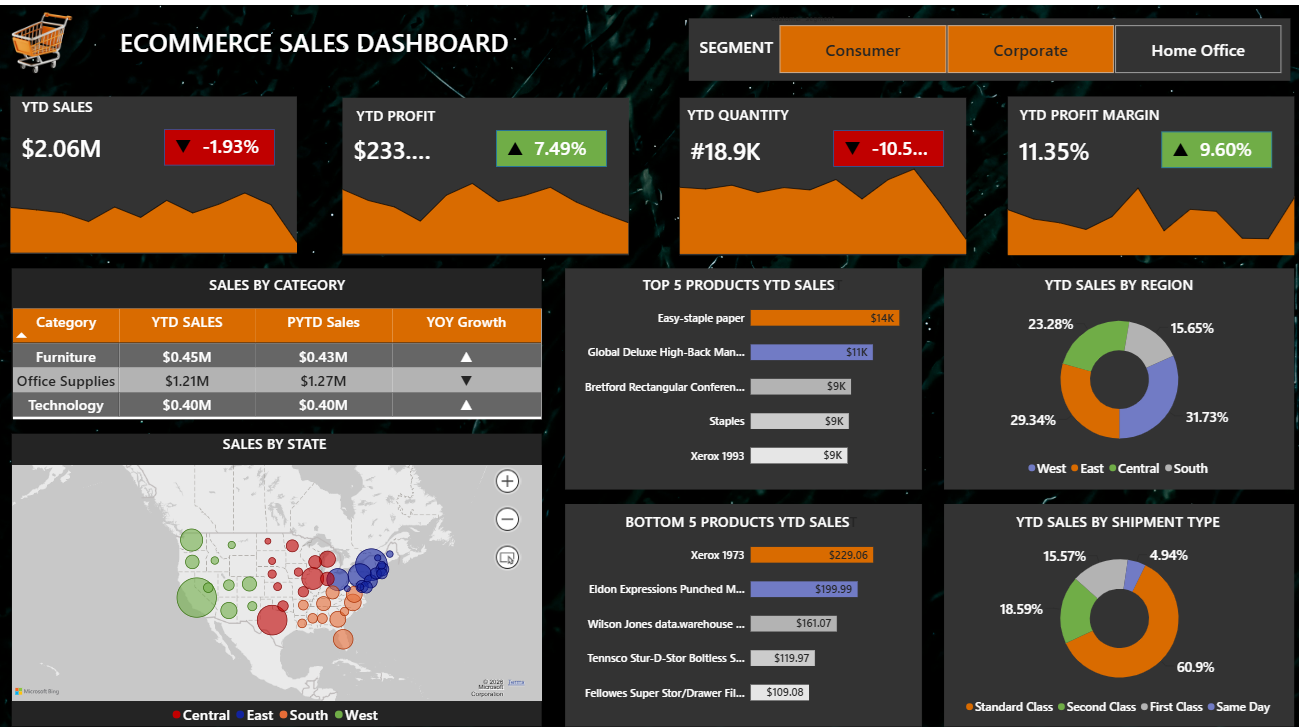

Layout of this report page (visuals, bound fields, positions):
{"tool":"powerbi","page":{"name":"ECOMMERCE SALES DASHBOARD","canvas":[1920,1080],"ordinal":0},"visuals":[{"type":"image","box":[0,0,116.9,113.1],"z":0},{"type":"textbox","box":[128.4,30.7,668.9,55.6],"z":1000},{"type":"shape","box":[15.3,136.1,421.6,231.9],"z":2000},{"type":"cardVisual","fields":{"Data":["ecommerce_data (2).YTD SALES"]},"box":[15.3,170.6,162.9,82.4],"z":3000},{"type":"textbox","box":[15.3,136.1,138.5,44.7],"z":4000},{"type":"areaChart","fields":{"Y":["Sum(ecommerce_data (2).sales_per_order)"],"Category":["Calender.Month"]},"box":[0,230,452.3,136.1],"z":5000},{"type":"shape","box":[241.5,184,162.9,53.7],"z":6000},{"type":"cardVisual","fields":{"Data":["ecommerce_data (2).YOY Growth"]},"box":[281.7,185.9,122.7,44.1],"z":7000},{"type":"cardVisual","fields":{"Data":["ecommerce_data (2).YOY icon"]},"box":[241.5,185.9,57.5,44.1],"z":8000},{"type":"shape","box":[503.7,138.7,421.6,231.9],"z":9000},{"type":"cardVisual","fields":{"Data":["ecommerce_data (2).YTD PROFIT"]},"box":[503.7,173.2,162.9,82.4],"z":10000},{"type":"textbox","box":[513.7,148.7,138.5,44.7],"z":11000},{"type":"areaChart","fields":{"Category":["Calender.Month"],"Y":["Sum(ecommerce_data (2).profit_per_order)"]},"box":[488.7,237.7,451.2,129.9],"z":12000},{"type":"shape","box":[729.8,186.6,162.9,53.7],"z":13000},{"type":"cardVisual","fields":{"Data":["ecommerce_data (2).YOY PROFIT GROWTH"]},"box":[770.1,188.5,122.7,44.1],"z":14000},{"type":"cardVisual","fields":{"Data":["ecommerce_data (2).PROFIT ICON"]},"box":[729.8,188.5,57.5,44.1],"z":15000},{"type":"shape","box":[999.7,138.7,421.6,231.9],"z":16000},{"type":"cardVisual","fields":{"Data":["ecommerce_data (2).YTD Quantity Concatinated"]},"box":[1000,174,176,82],"z":17000},{"type":"textbox","box":[999.3,147.5,176.1,41.8],"z":18000},{"type":"areaChart","fields":{"Category":["Calender.Month"],"Y":["Sum(ecommerce_data (2).order_quantity)"]},"box":[984.4,232.6,452.3,136.1],"z":19000},{"type":"shape","box":[1225.8,186.6,162.9,53.7],"z":20000},{"type":"cardVisual","fields":{"Data":["ecommerce_data (2).YOY Quantity Growth"]},"box":[1266.1,188.5,122.7,44.1],"z":21000},{"type":"cardVisual","fields":{"Data":["ecommerce_data (2).Quantity icon"]},"box":[1225.8,188.5,57.5,44.1],"z":22000},{"type":"shape","box":[1483.4,136.1,421.6,231.9],"z":23000},{"type":"cardVisual","fields":{"Data":["ecommerce_data (2).YTD Profit Margin"]},"box":[1483.5,174.7,162.9,82.4],"z":24000},{"type":"textbox","box":[1498.7,147.6,210.8,46],"z":25000},{"type":"areaChart","fields":{"Category":["Calender.Month"],"Y":["ecommerce_data (2).Profit Margin"]},"box":[1468.2,234.1,452.3,136.1],"z":26000},{"type":"shape","box":[1709.6,188.1,162.9,53.7],"z":27000},{"type":"cardVisual","fields":{"Data":["ecommerce_data (2).YOY Profit Margin"]},"box":[1749.9,190,122.7,44.1],"z":28000},{"type":"cardVisual","fields":{"Data":["ecommerce_data (2).Profit margin icon"]},"box":[1709.6,190,57.5,44.1],"z":29000},{"type":"shape","box":[17.2,389,780,222.3],"z":30000},{"type":"pivotTable","fields":{"Rows":["ecommerce_data (2).category_name"],"Values":["ecommerce_data (2).YTD SALES","ecommerce_data (2).PYTD Sales","ecommerce_data (2).YOY icon"]},"box":[19.2,448.5,778.1,162.9],"z":31000},{"type":"textbox","box":[278,398,260.6,40.2],"z":32000},{"type":"shape","box":[17.2,632.4,780,431.2],"z":33000},{"type":"map","fields":{"Size":["ecommerce_data (2).YTD SALES"],"Y":["us_state_long_lat_codes.latitude"],"X":["us_state_long_lat_codes.longitude"],"Series":["ecommerce_data (2).customer_region"]},"box":[17.2,678.4,780,385.2],"z":34000},{"type":"textbox","box":[302.9,632.9,203.1,46],"z":35000},{"type":"shape","box":[831.8,389,525.1,325.8],"z":36000},{"type":"shape","box":[831.8,735.9,525.1,327.7],"z":37000},{"type":"shape","box":[1389.5,735.9,515.5,327.7],"z":38000},{"type":"shape","box":[1389.5,389,515.5,325.8],"z":39000},{"type":"barChart","fields":{"Category":["ecommerce_data (2).product_name"],"Y":["ecommerce_data (2).YTD SALES"]},"box":[831.8,408.2,525.1,306.6],"z":40000},{"type":"barChart","fields":{"Category":["ecommerce_data (2).product_name"],"Y":["ecommerce_data (2).YTD SALES"]},"box":[831.8,757,525.1,306.6],"z":41000},{"type":"textbox","box":[942,398,300.9,40.2],"z":42000},{"type":"textbox","box":[910.3,747.4,362.2,40.2],"z":43000},{"type":"donutChart","fields":{"Category":["ecommerce_data (2).customer_region"],"Y":["ecommerce_data (2).YTD SALES"]},"box":[1390,428,516,288],"z":44000},{"type":"textbox","box":[1484,398,328,50],"z":45000},{"type":"donutChart","fields":{"Y":["ecommerce_data (2).YTD SALES"],"Category":["ecommerce_data (2).shipping_type"]},"box":[1390,778,516,288],"z":46000},{"type":"textbox","box":[1482,748,328,50],"z":47000},{"type":"shape","box":[1013.8,21.1,885.4,92],"z":48000},{"type":"slicer","fields":{"Values":["ecommerce_data (2).customer_segment"]},"box":[1126.9,15.3,778.1,88.2],"z":49000},{"type":"textbox","box":[998.8,46.2,170.6,47.9],"z":50000}]}

Visuals, with their boxes in screenshot pixels (x1, y1, x2, y2), scaled from the page's 1920x1080 canvas onto the 1299x727 screenshot:
image: pyautogui.locateOnScreen(0, 0, 79, 76)
textbox: pyautogui.locateOnScreen(87, 21, 539, 58)
shape: pyautogui.locateOnScreen(10, 92, 296, 248)
cardVisual - ecommerce_data (2).YTD SALES: pyautogui.locateOnScreen(10, 115, 121, 170)
textbox: pyautogui.locateOnScreen(10, 92, 104, 122)
areaChart - Sum(ecommerce_data (2).sales_per_order) x Calender.Month: pyautogui.locateOnScreen(0, 155, 306, 246)
shape: pyautogui.locateOnScreen(163, 124, 274, 160)
cardVisual - ecommerce_data (2).YOY Growth: pyautogui.locateOnScreen(191, 125, 274, 155)
cardVisual - ecommerce_data (2).YOY icon: pyautogui.locateOnScreen(163, 125, 202, 155)
shape: pyautogui.locateOnScreen(341, 93, 626, 249)
cardVisual - ecommerce_data (2).YTD PROFIT: pyautogui.locateOnScreen(341, 117, 451, 172)
textbox: pyautogui.locateOnScreen(348, 100, 441, 130)
areaChart - Calender.Month x Sum(ecommerce_data (2).profit_per_order): pyautogui.locateOnScreen(331, 160, 636, 247)
shape: pyautogui.locateOnScreen(494, 126, 604, 162)
cardVisual - ecommerce_data (2).YOY PROFIT GROWTH: pyautogui.locateOnScreen(521, 127, 604, 157)
cardVisual - ecommerce_data (2).PROFIT ICON: pyautogui.locateOnScreen(494, 127, 533, 157)
shape: pyautogui.locateOnScreen(676, 93, 962, 249)
cardVisual - ecommerce_data (2).YTD Quantity Concatinated: pyautogui.locateOnScreen(677, 117, 796, 172)
textbox: pyautogui.locateOnScreen(676, 99, 795, 127)
areaChart - Calender.Month x Sum(ecommerce_data (2).order_quantity): pyautogui.locateOnScreen(666, 157, 972, 248)
shape: pyautogui.locateOnScreen(829, 126, 940, 162)
cardVisual - ecommerce_data (2).YOY Quantity Growth: pyautogui.locateOnScreen(857, 127, 940, 157)
cardVisual - ecommerce_data (2).Quantity icon: pyautogui.locateOnScreen(829, 127, 868, 157)
shape: pyautogui.locateOnScreen(1004, 92, 1289, 248)
cardVisual - ecommerce_data (2).YTD Profit Margin: pyautogui.locateOnScreen(1004, 118, 1114, 173)
textbox: pyautogui.locateOnScreen(1014, 99, 1157, 130)
areaChart - Calender.Month x ecommerce_data (2).Profit Margin: pyautogui.locateOnScreen(993, 158, 1298, 249)
shape: pyautogui.locateOnScreen(1157, 127, 1267, 163)
cardVisual - ecommerce_data (2).YOY Profit Margin: pyautogui.locateOnScreen(1184, 128, 1267, 158)
cardVisual - ecommerce_data (2).Profit margin icon: pyautogui.locateOnScreen(1157, 128, 1196, 158)
shape: pyautogui.locateOnScreen(12, 262, 539, 411)
pivotTable - ecommerce_data (2).category_name x ecommerce_data (2).YTD SALES: pyautogui.locateOnScreen(13, 302, 539, 412)
textbox: pyautogui.locateOnScreen(188, 268, 364, 295)
shape: pyautogui.locateOnScreen(12, 426, 539, 716)
map - ecommerce_data (2).YTD SALES x us_state_long_lat_codes.latitude: pyautogui.locateOnScreen(12, 457, 539, 716)
textbox: pyautogui.locateOnScreen(205, 426, 342, 457)
shape: pyautogui.locateOnScreen(563, 262, 918, 481)
shape: pyautogui.locateOnScreen(563, 495, 918, 716)
shape: pyautogui.locateOnScreen(940, 495, 1289, 716)
shape: pyautogui.locateOnScreen(940, 262, 1289, 481)
barChart - ecommerce_data (2).product_name x ecommerce_data (2).YTD SALES: pyautogui.locateOnScreen(563, 275, 918, 481)
barChart - ecommerce_data (2).product_name x ecommerce_data (2).YTD SALES: pyautogui.locateOnScreen(563, 510, 918, 716)
textbox: pyautogui.locateOnScreen(637, 268, 841, 295)
textbox: pyautogui.locateOnScreen(616, 503, 861, 530)
donutChart - ecommerce_data (2).customer_region x ecommerce_data (2).YTD SALES: pyautogui.locateOnScreen(940, 288, 1290, 482)
textbox: pyautogui.locateOnScreen(1004, 268, 1226, 302)
donutChart - ecommerce_data (2).YTD SALES x ecommerce_data (2).shipping_type: pyautogui.locateOnScreen(940, 524, 1290, 718)
textbox: pyautogui.locateOnScreen(1003, 504, 1225, 537)
shape: pyautogui.locateOnScreen(686, 14, 1285, 76)
slicer - ecommerce_data (2).customer_segment: pyautogui.locateOnScreen(762, 10, 1289, 70)
textbox: pyautogui.locateOnScreen(676, 31, 791, 63)
